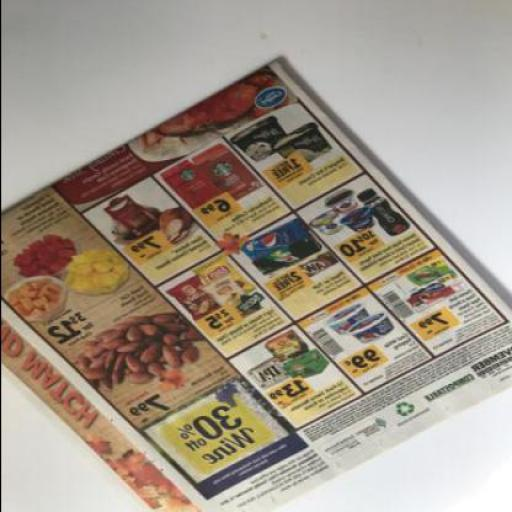paper: (0, 64, 511, 512)
